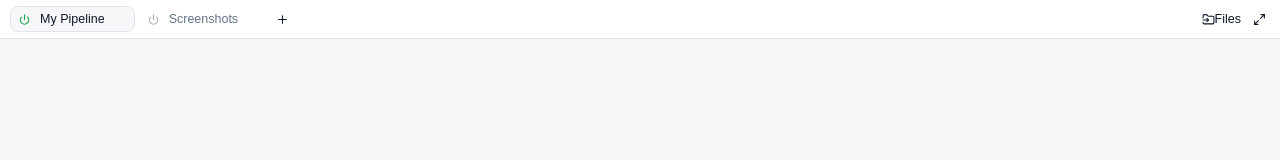
Test: PipelineTabs › toggles a pipeline on and surfaces validation problems
Check: the tab "Screenshots" is shown, box [165,9,242,29]
Click the button named "turn screenshots on". click: (153,19)
box: [144,10,163,28]
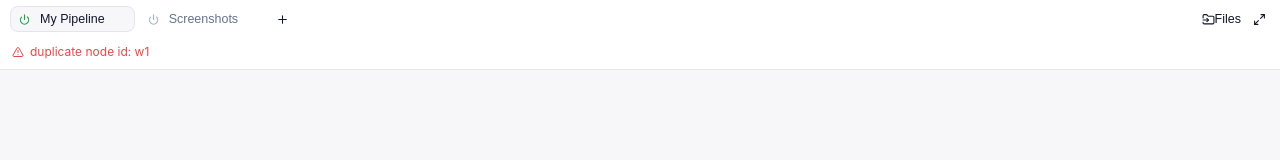
Check: the text "duplicate node id: w1" is shown, box [12,44,149,59]
